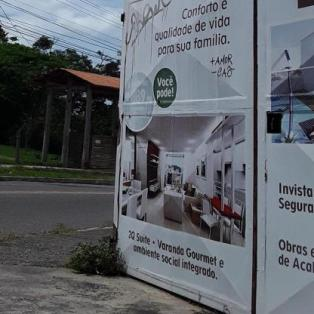Poste: (0, 0, 5, 173)
